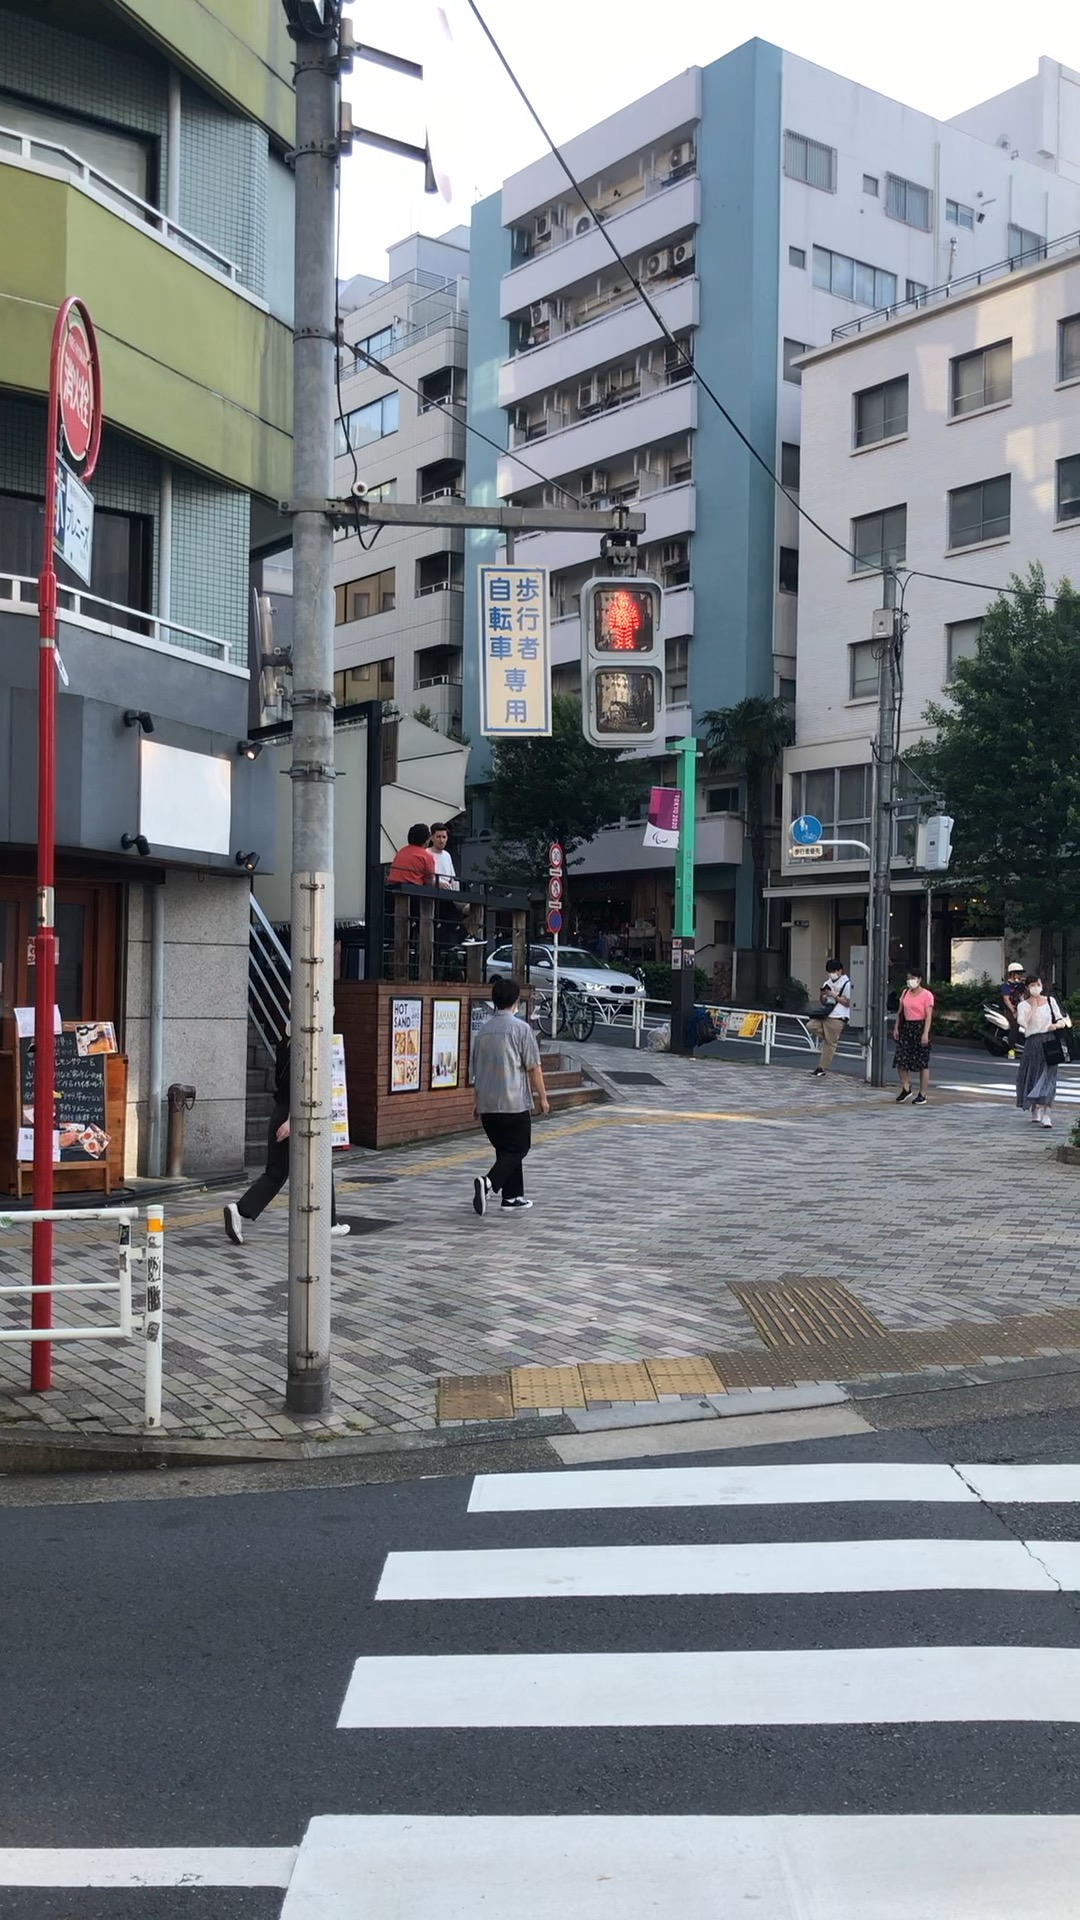red: (579, 576, 669, 750)
